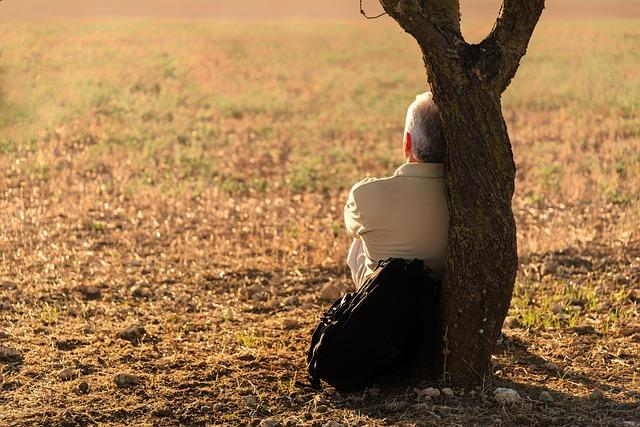Non_Gorille: (322, 53, 494, 405)
